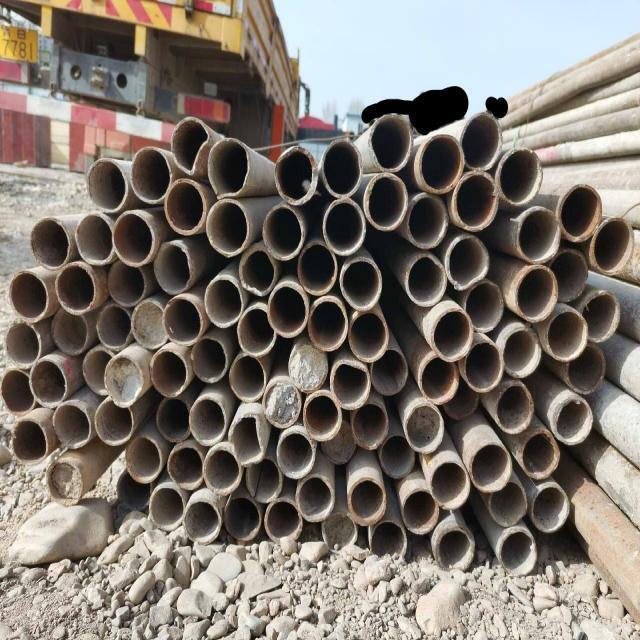pipe: (453, 170, 499, 232), (418, 133, 464, 193), (207, 136, 250, 200), (497, 146, 542, 207), (274, 144, 318, 204), (368, 113, 412, 173), (458, 112, 502, 172), (205, 197, 249, 257), (322, 196, 366, 256), (364, 172, 408, 232), (444, 234, 490, 291), (515, 206, 561, 263), (558, 183, 602, 242), (590, 216, 634, 275), (514, 264, 558, 322), (320, 137, 362, 197), (163, 178, 206, 235), (129, 146, 171, 203), (170, 115, 209, 176), (338, 256, 382, 310), (86, 157, 128, 213), (262, 204, 304, 260), (406, 192, 448, 248), (112, 211, 154, 267), (266, 282, 308, 338), (306, 296, 348, 352), (404, 252, 447, 306), (545, 308, 588, 362), (468, 441, 512, 493), (430, 308, 472, 362), (548, 246, 588, 302), (564, 341, 606, 394), (29, 217, 70, 271), (54, 262, 96, 314), (579, 290, 620, 343), (74, 211, 114, 265), (152, 242, 192, 296), (297, 242, 337, 296), (302, 388, 342, 442), (501, 326, 542, 378), (8, 269, 48, 322), (348, 309, 388, 362), (463, 280, 503, 333), (329, 360, 371, 410), (203, 276, 243, 328), (236, 304, 276, 356), (288, 341, 328, 393), (463, 340, 503, 392), (494, 382, 534, 434), (418, 354, 459, 404), (429, 460, 470, 510), (519, 430, 560, 480), (104, 354, 142, 407), (226, 413, 264, 466), (106, 257, 146, 307), (162, 296, 202, 346), (28, 358, 68, 408), (187, 396, 227, 446), (275, 429, 315, 479), (404, 402, 444, 452), (202, 445, 242, 495), (347, 476, 387, 526), (530, 482, 570, 532), (238, 244, 276, 296), (130, 298, 168, 350), (262, 377, 300, 429), (350, 399, 388, 451), (432, 526, 474, 572), (148, 348, 188, 396), (51, 401, 91, 449), (94, 398, 134, 446), (552, 396, 592, 444), (294, 474, 334, 522), (487, 478, 527, 526), (3, 318, 41, 368), (50, 306, 88, 356), (370, 346, 408, 396), (498, 527, 536, 577), (81, 346, 118, 396), (442, 370, 479, 420), (181, 498, 221, 544), (95, 302, 133, 350), (189, 334, 227, 382), (228, 354, 266, 402), (45, 458, 83, 506), (244, 455, 282, 503), (400, 487, 438, 535), (166, 444, 204, 491), (222, 494, 260, 540), (264, 497, 302, 543), (319, 418, 356, 465), (0, 368, 36, 416), (155, 394, 191, 442), (125, 434, 161, 482), (10, 418, 48, 463), (378, 432, 414, 478), (148, 484, 184, 530), (320, 510, 358, 552), (368, 520, 406, 560), (116, 469, 152, 511)
